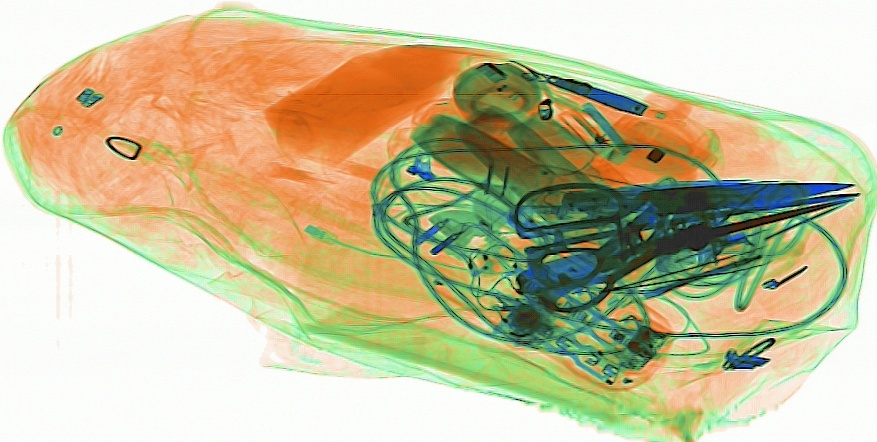scissors: (508, 170, 860, 315)
